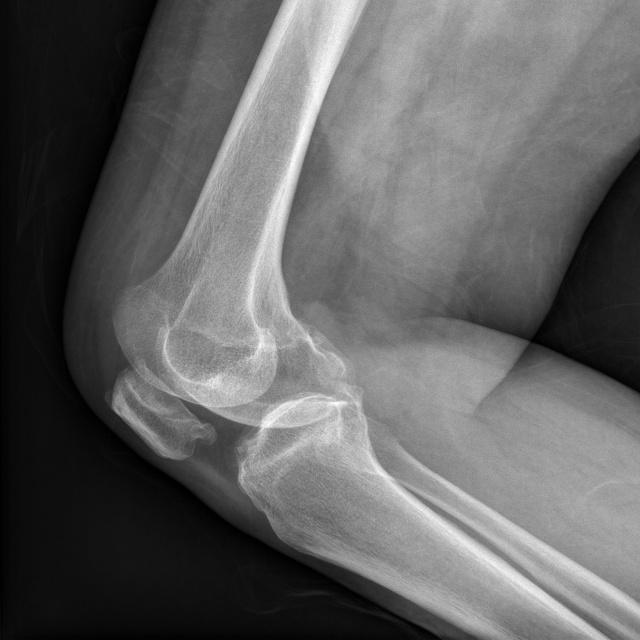Knee: (99, 278, 372, 508)
